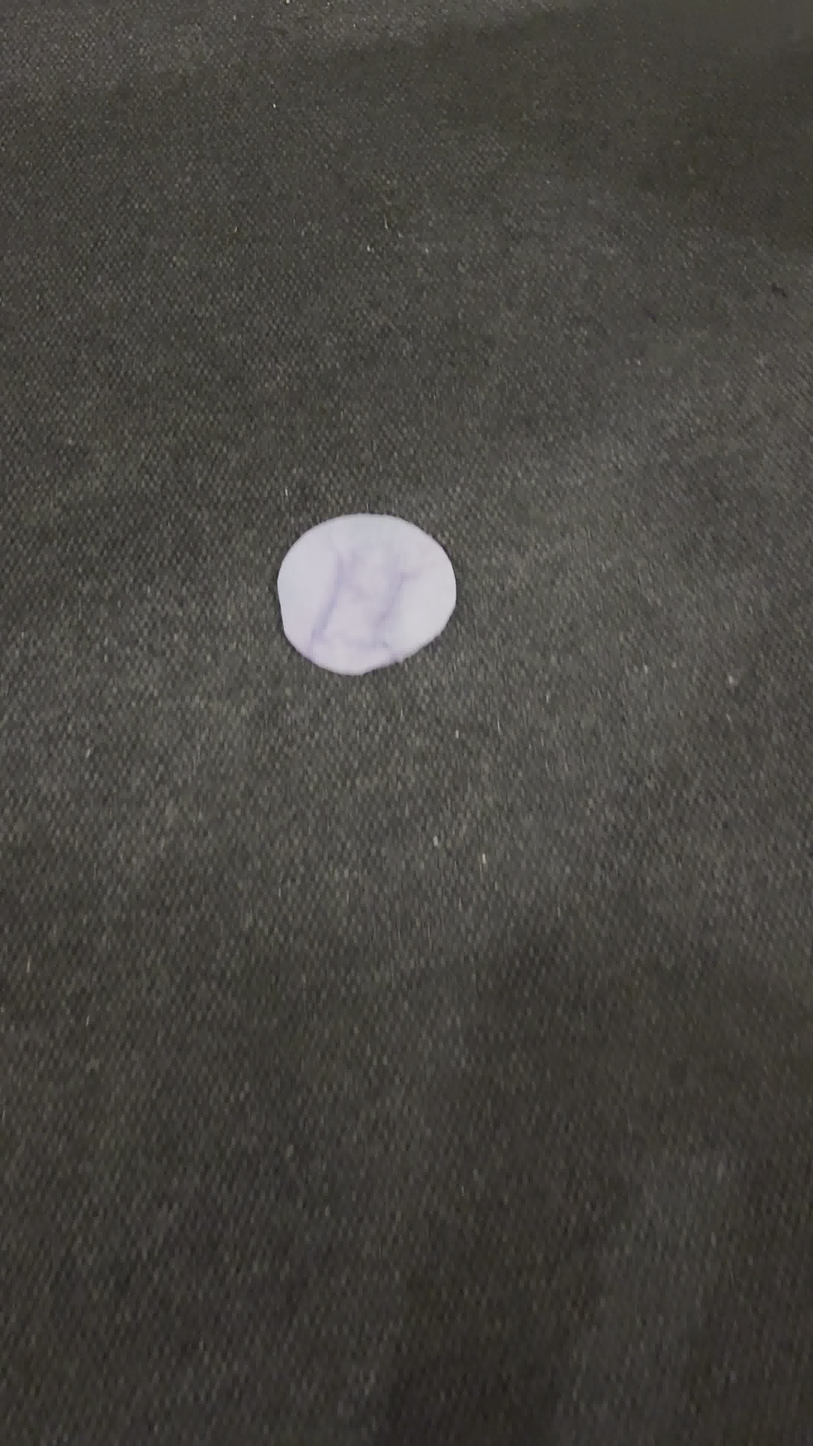Target: (277, 513, 457, 675)
